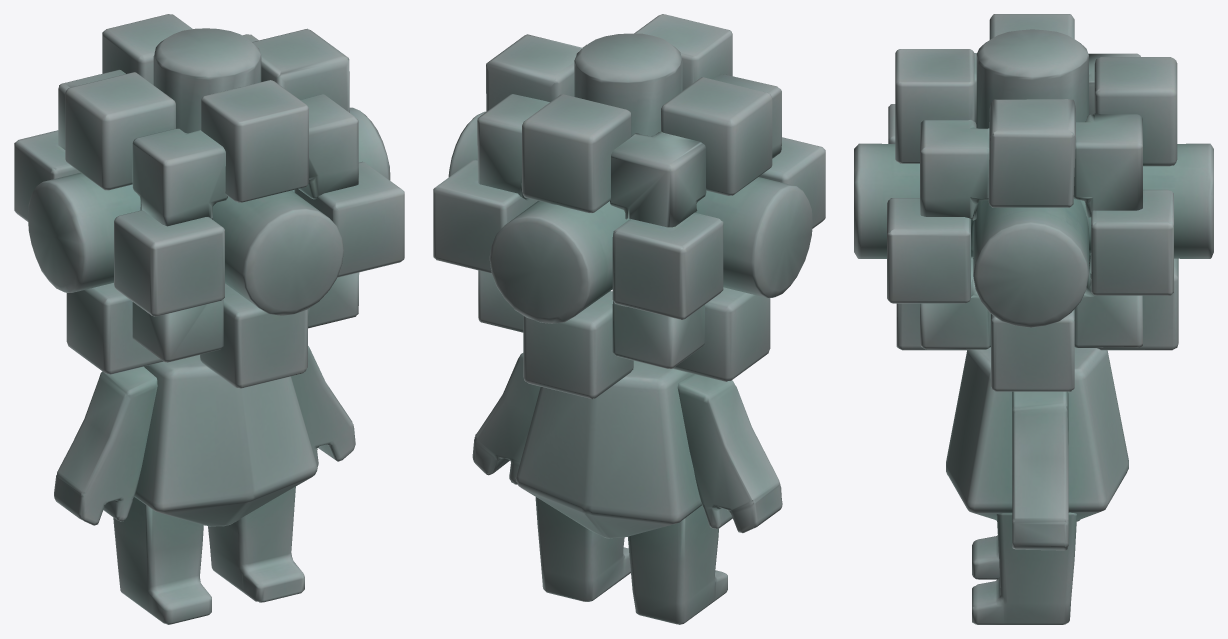
File: polypal_cuboid.glb
3 views of the same model, side by side, from view 1: azimuth 30°, elevation 25°; view 2: azimuth 150°, elevation 25°; view 3: azimuth 270°, elevation 25° (orthographic).
Parts seen in each view (by area): view 1: tripo_node_c028372d-a23f-40a9-87b9-f2dd00c49149; view 2: tripo_node_c028372d-a23f-40a9-87b9-f2dd00c49149; view 3: tripo_node_c028372d-a23f-40a9-87b9-f2dd00c49149.
Part boxes in pixels (<box>): tripo_node_c028372d-a23f-40a9-87b9-f2dd00c49149: <box>14,14,404,624</box>; tripo_node_c028372d-a23f-40a9-87b9-f2dd00c49149: <box>433,14,825,624</box>; tripo_node_c028372d-a23f-40a9-87b9-f2dd00c49149: <box>854,14,1213,624</box>.
Bounding box in the file's own units: 0.5996 × 0.998 × 0.5957.
1 material, 1 textured.
